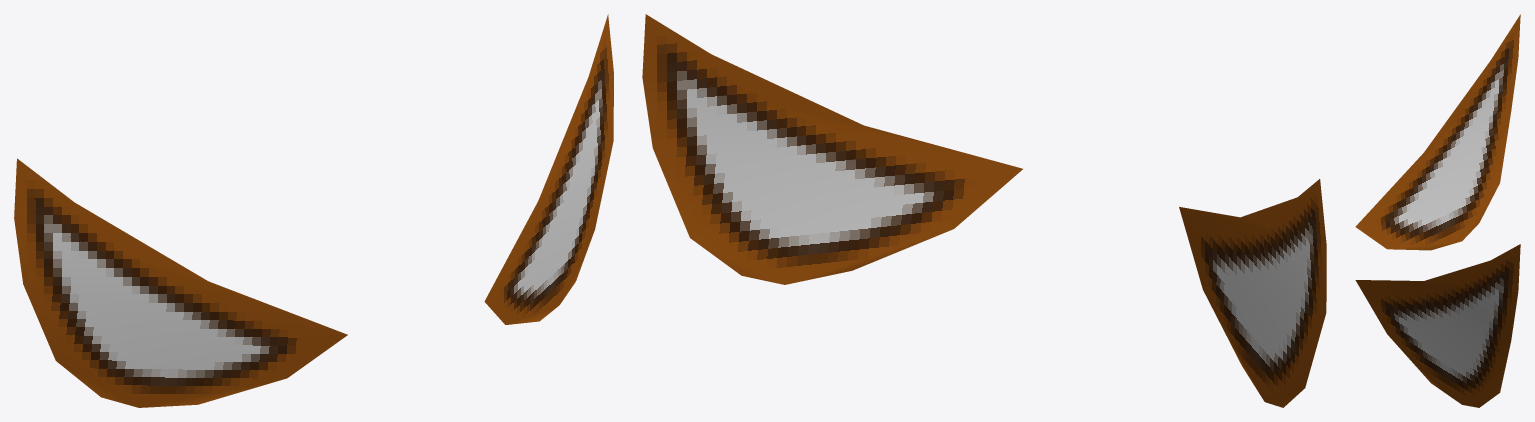
The model's file is FX_warrior_berserker_FBX.FBX.
3 views of the same model, side by side, from view 1: azimuth 30°, elevation 25°; view 2: azimuth 150°, elevation 25°; view 3: azimuth 270°, elevation 25° (orthographic). The views are drawn at different scales.
Parts seen in each view (by area): view 1: Eye; view 2: Eye; view 3: Eye.
Boxes of the visible parts, x1,y1,x2,y2 form: Eye: [14, 14, 613, 407]; Eye: [642, 14, 1326, 407]; Eye: [1355, 14, 1520, 407].
Size of the model in its own units: 0.4447 by 0.1726 by 0.1332.
